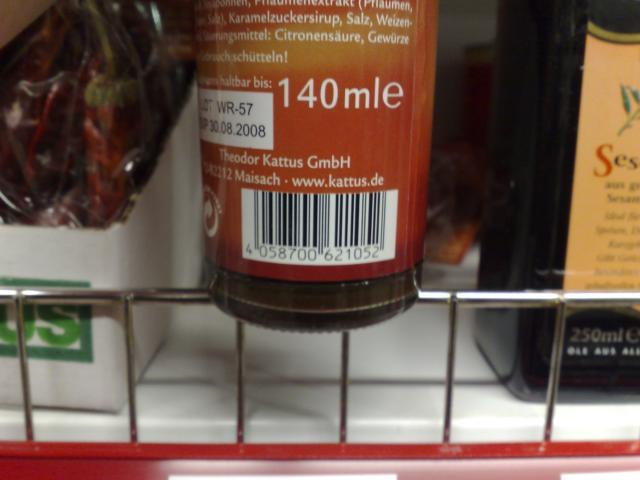Barcode: (239, 187, 398, 265)
